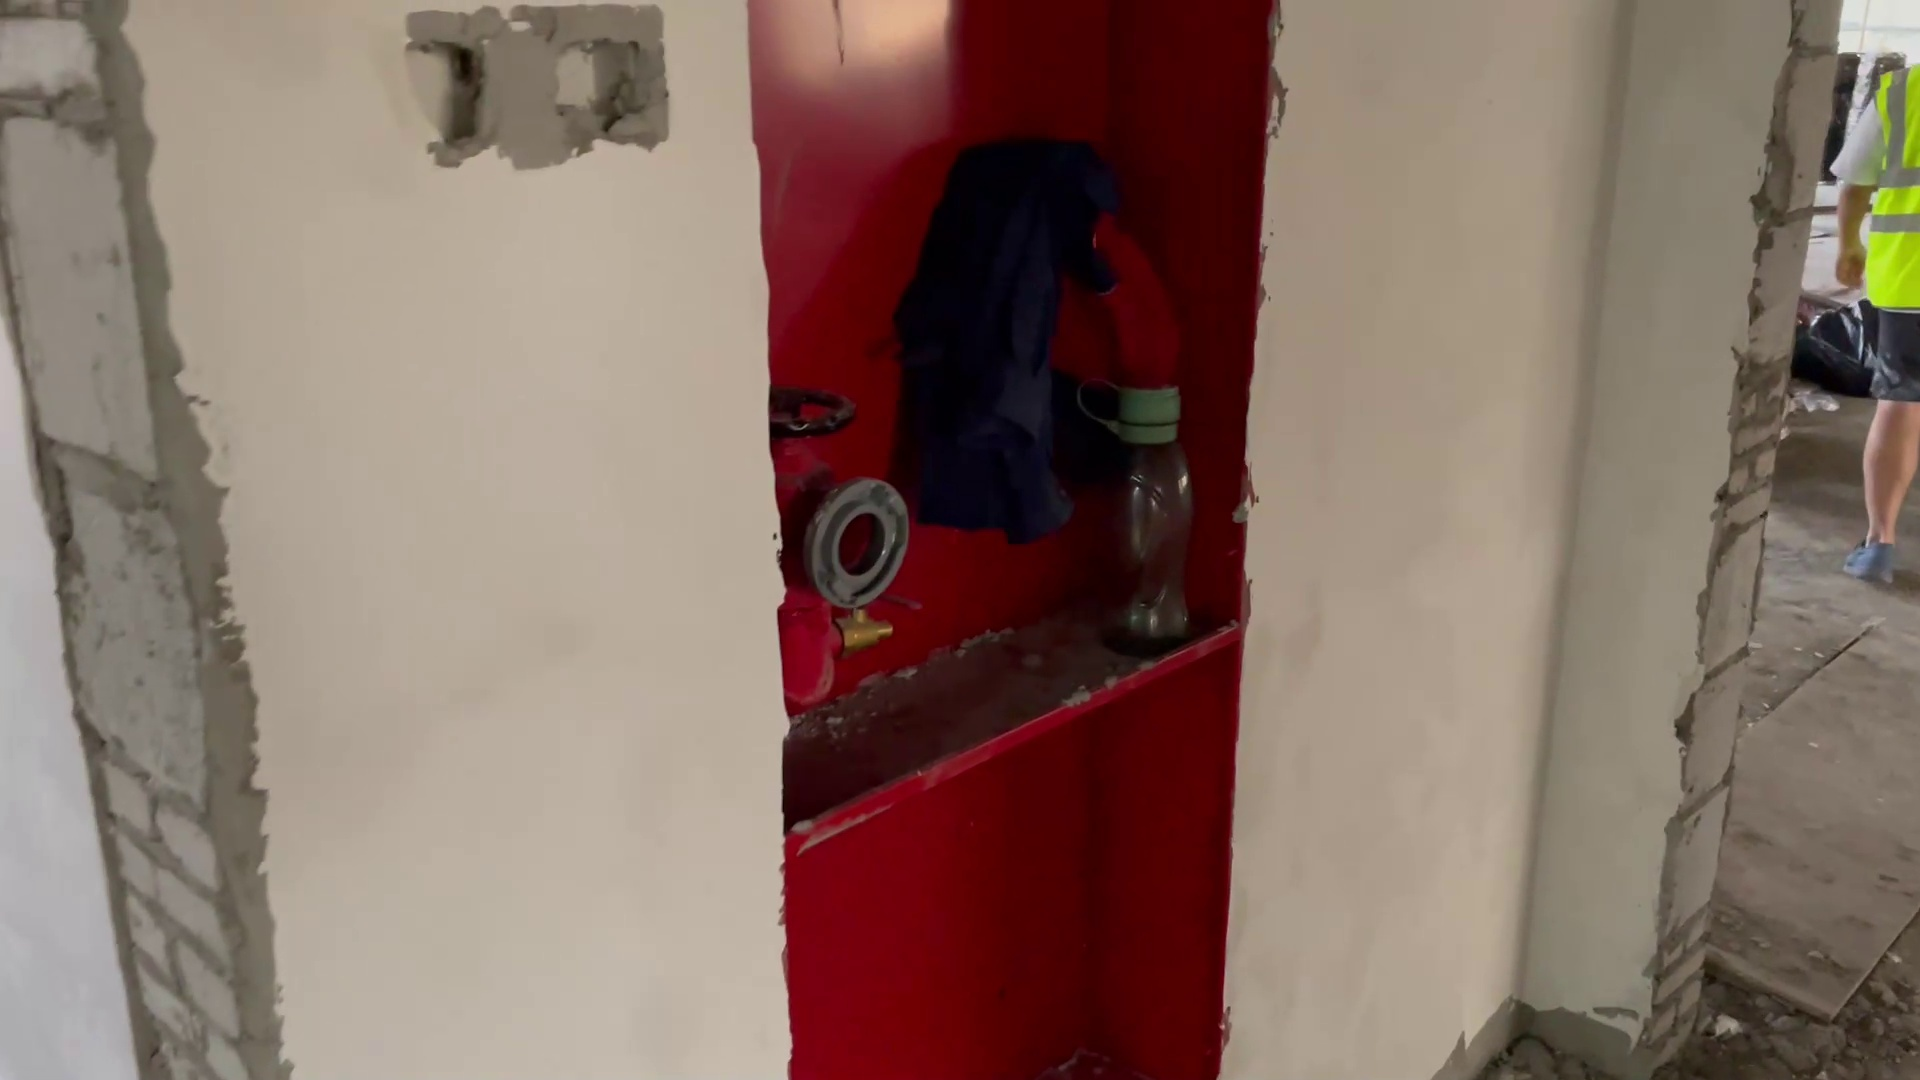person: (1827, 53, 1920, 592)
vest: (1869, 68, 1920, 312)
